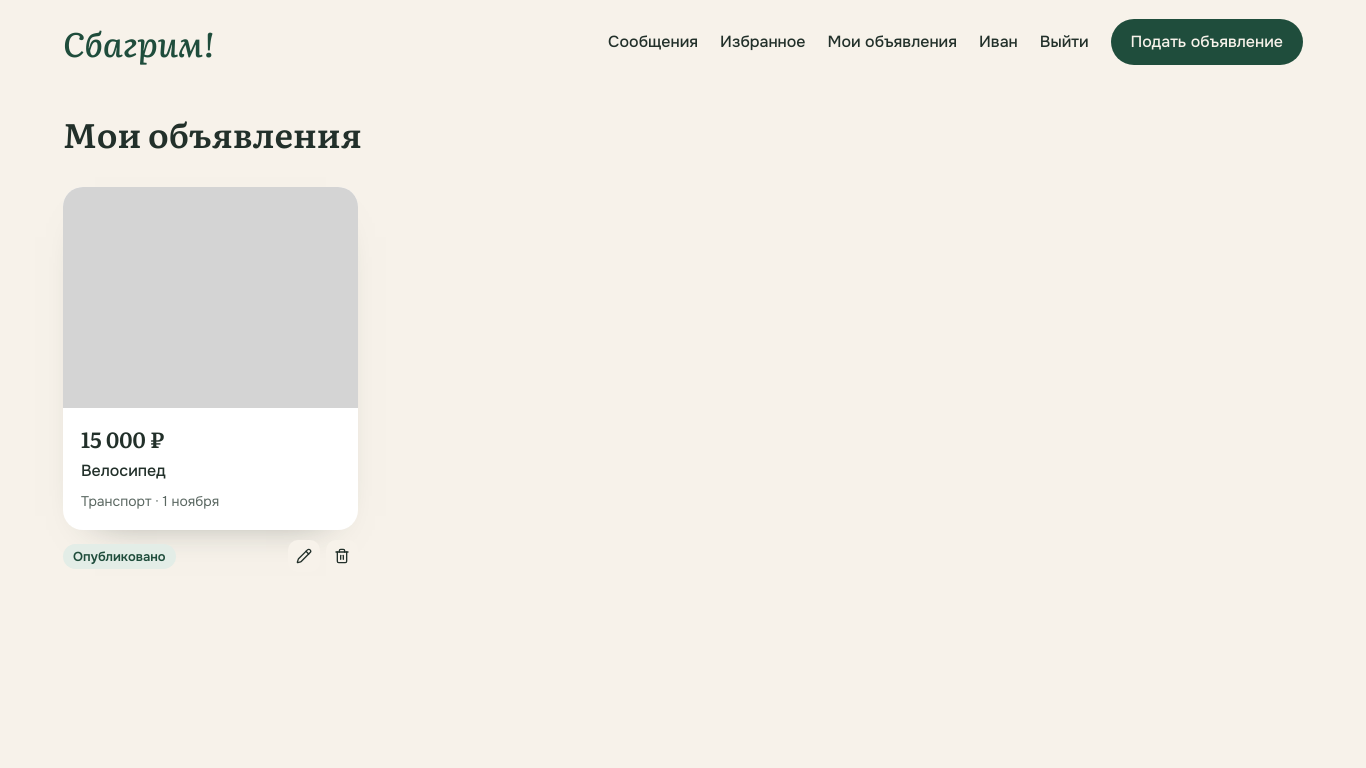
Test: мои объявления › показывает ошибку удаления
The image size is (1366, 768).
Click the button named "Удалить Велосипед": x=342, y=556 x1=326 y1=540 x2=358 y2=572
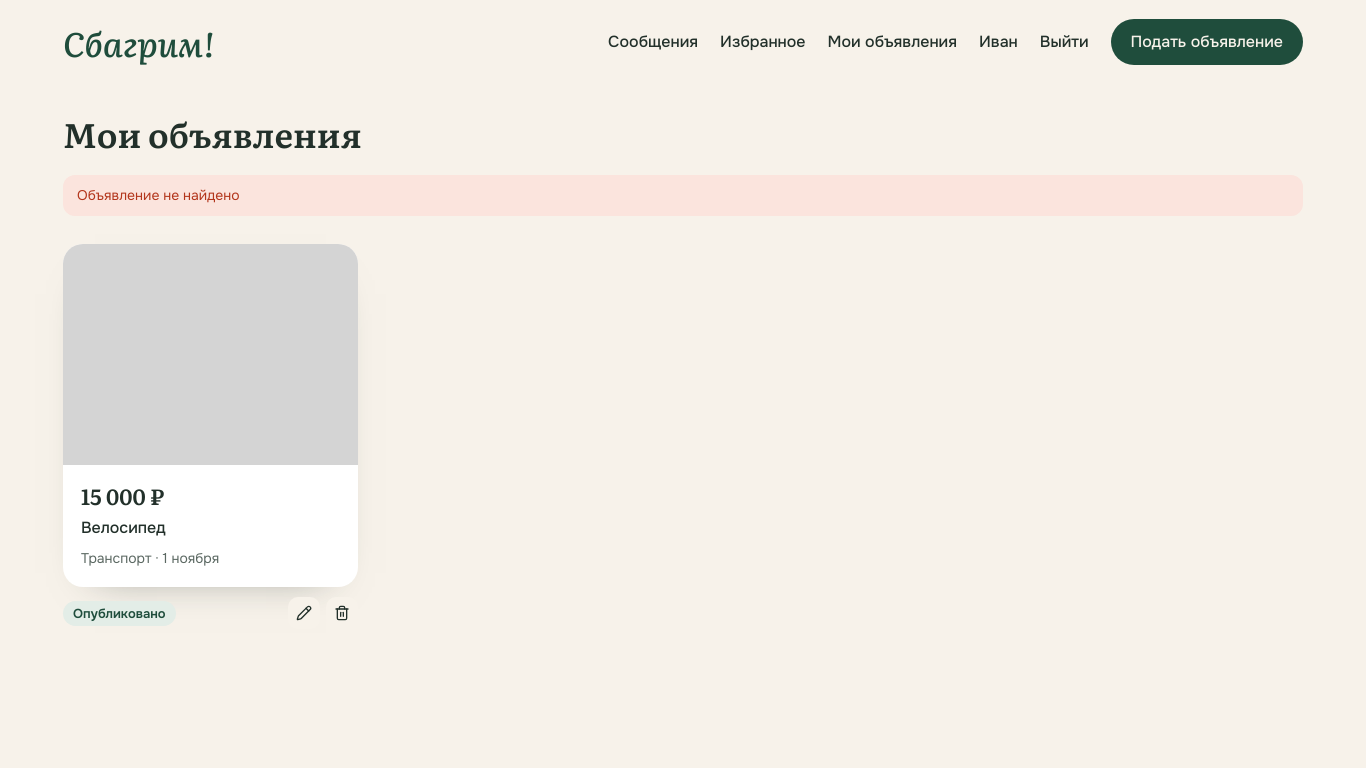
Check: the message reads "Объявление не найдено", box x1=77 y1=186 x2=240 y2=204
